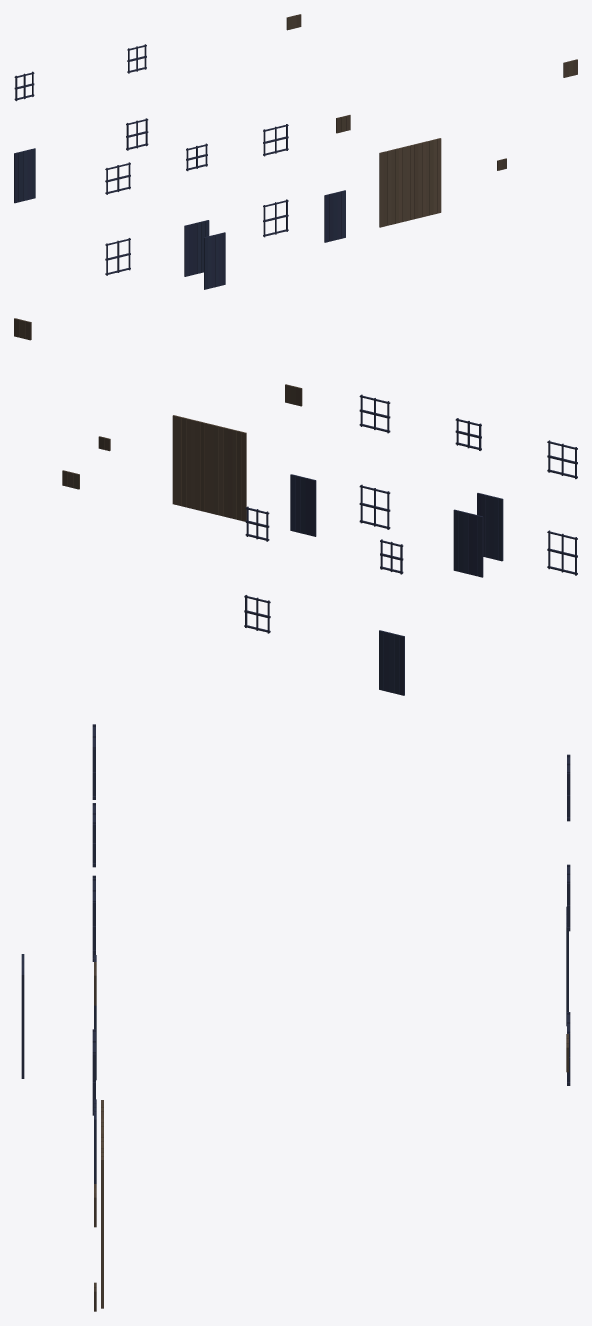
File: SM_Bld_000_Wood.glb
3 views of the same model, one above another, from view 1: azimuth 30°, elevation 25°; view 2: azimuth 150°, elevation 25°; view 3: azimuth 270°, elevation 25° (orthographic). The views are drawn at different scales.
Visible parts, largest first — view 1: SM_Bld_000_Wood; view 2: SM_Bld_000_Wood; view 3: SM_Bld_000_Wood.
Part boxes in pixels (box(x1,y1,x2,y2)): SM_Bld_000_Wood: box(14, 14, 577, 289); SM_Bld_000_Wood: box(14, 318, 577, 695); SM_Bld_000_Wood: box(21, 724, 570, 1311).
Size of the model in its own units: 19.95 by 5.16 by 10.04.
